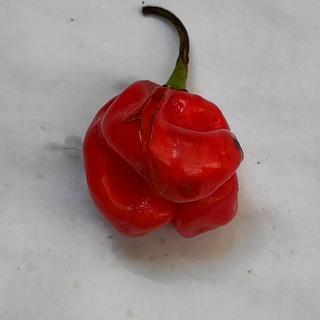Defect: (124, 79, 173, 149), (230, 132, 246, 161)
